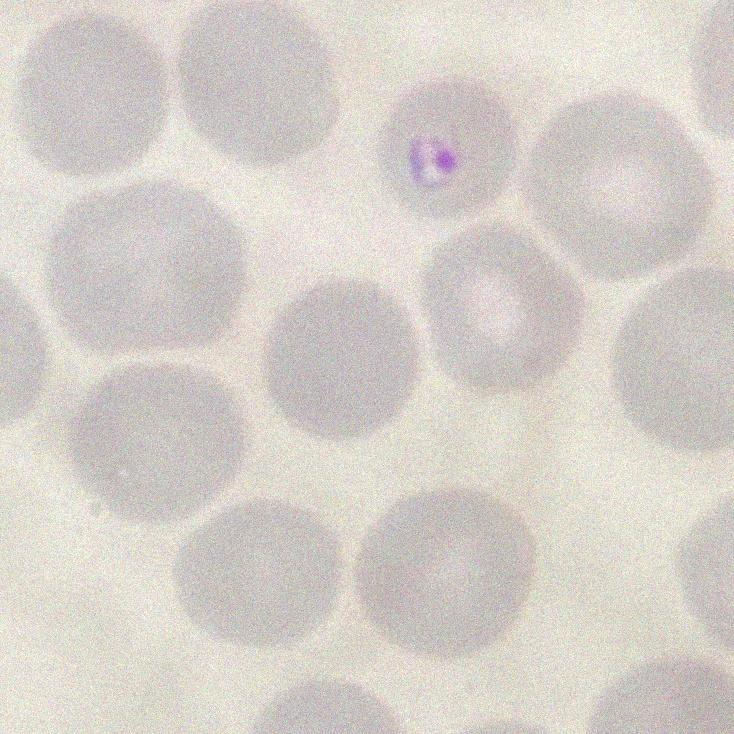Infected: (377, 77, 508, 215)
Uninfected: (524, 92, 713, 277), (47, 182, 248, 350), (360, 487, 532, 655), (73, 360, 247, 519), (170, 495, 344, 648), (13, 13, 174, 176), (421, 226, 580, 390), (183, 0, 339, 162), (269, 275, 419, 439), (613, 270, 734, 454)
